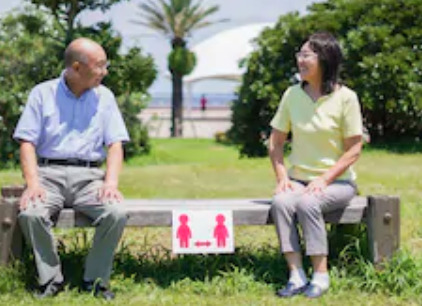Caution: (13, 35, 363, 297)
